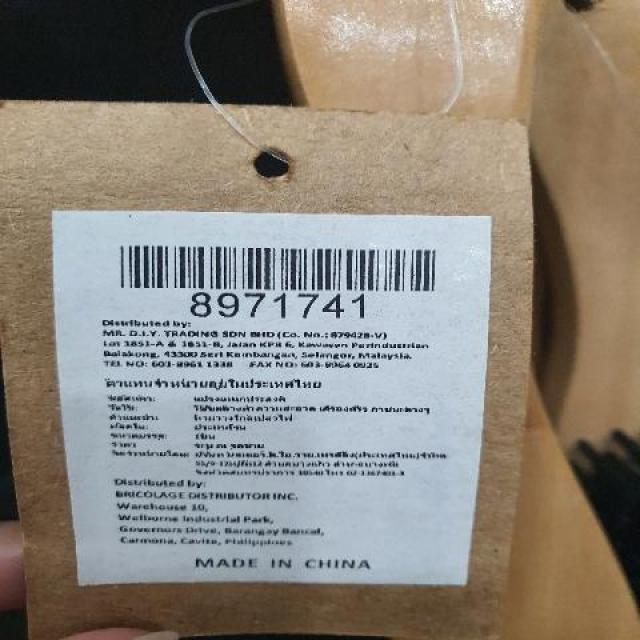Barcode: (107, 237, 452, 320)
